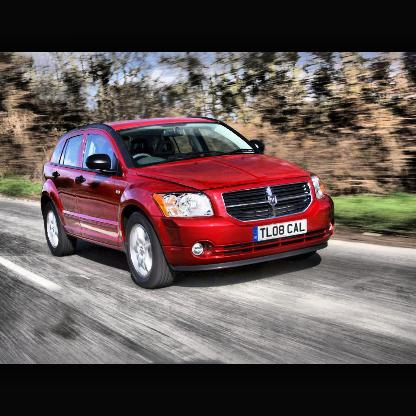Dodge Caliber Wagon 2007: (41, 117, 335, 290)
